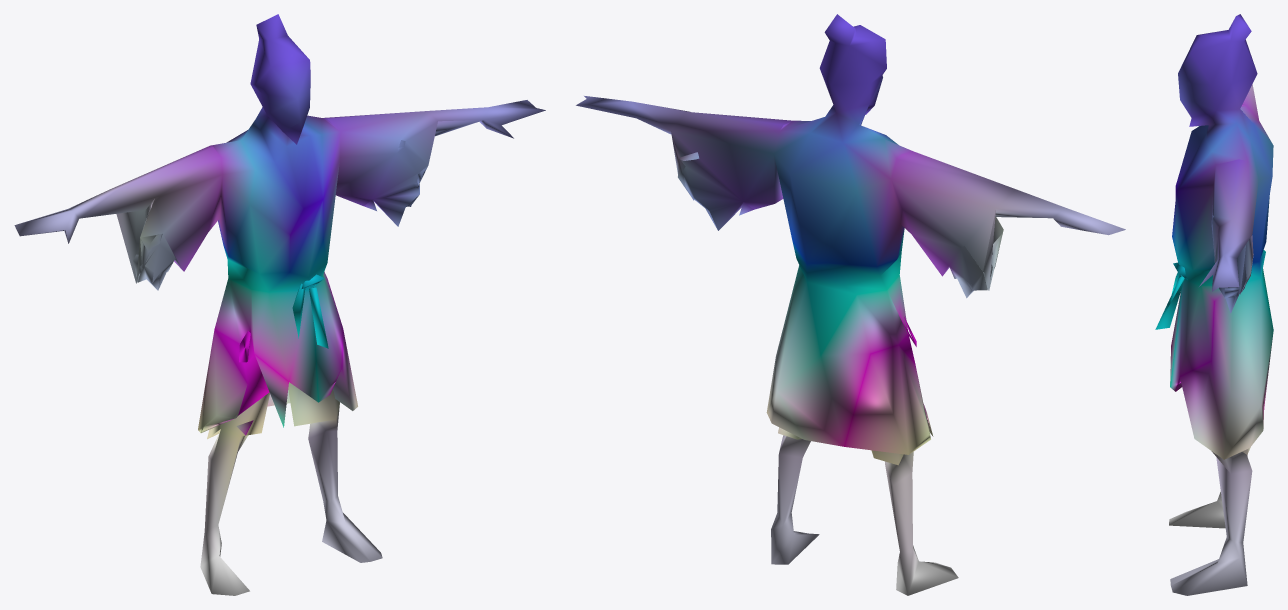
File: zombie_lod2.glb
The picture shows the model from 3 angles, left to right: view 1: azimuth 30°, elevation 25°; view 2: azimuth 150°, elevation 25°; view 3: azimuth 270°, elevation 25°; orthographic projection. The views are drawn at different scales.
Visible parts, largest first — view 1: zombie_body; view 2: zombie_body; view 3: zombie_body.
Part boxes in pixels (box(x1,y1,x2,y2)): zombie_body: box(14, 14, 545, 595); zombie_body: box(576, 14, 1125, 595); zombie_body: box(1155, 14, 1273, 595).
Bounding box in the file's own units: 1 × 0.9837 × 0.1947.
